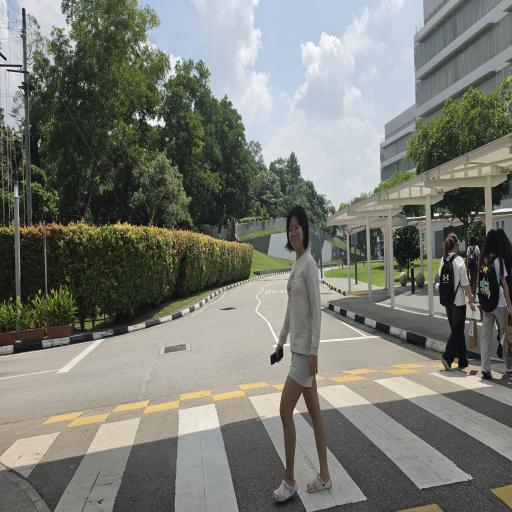person_left: (262, 194, 336, 500)
person_right: (434, 223, 471, 370), (479, 227, 510, 383)
